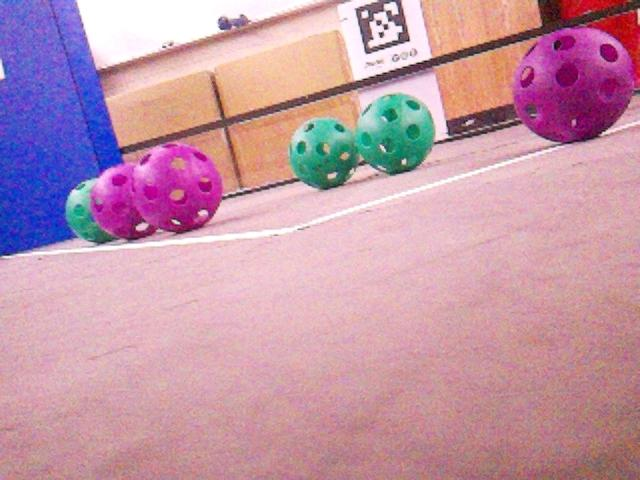Green: (354, 93, 435, 173), (287, 116, 359, 188), (62, 179, 112, 243)
Purple: (509, 25, 632, 141), (131, 143, 222, 232), (92, 161, 157, 236)
